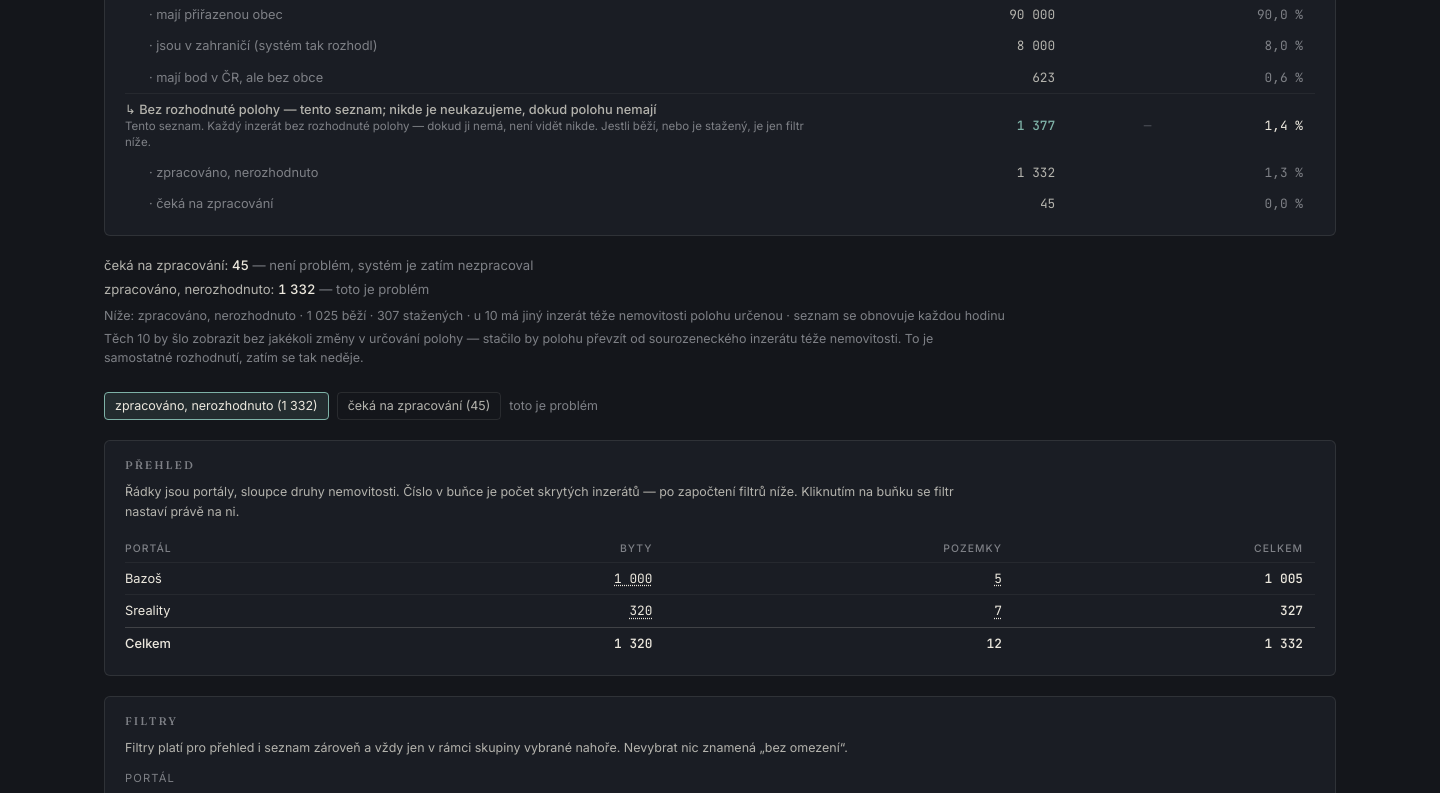
Test: LocationPinAudit › the state toggle re-scopes the matrix AND the server read
(page scrolled)
expect the row with test id "pin-audit-matrix-sreality" is shown: met, box [125,595,1315,627]
Click the button "čeká na zpracování (45)": click(419, 406) [337,392,501,420]
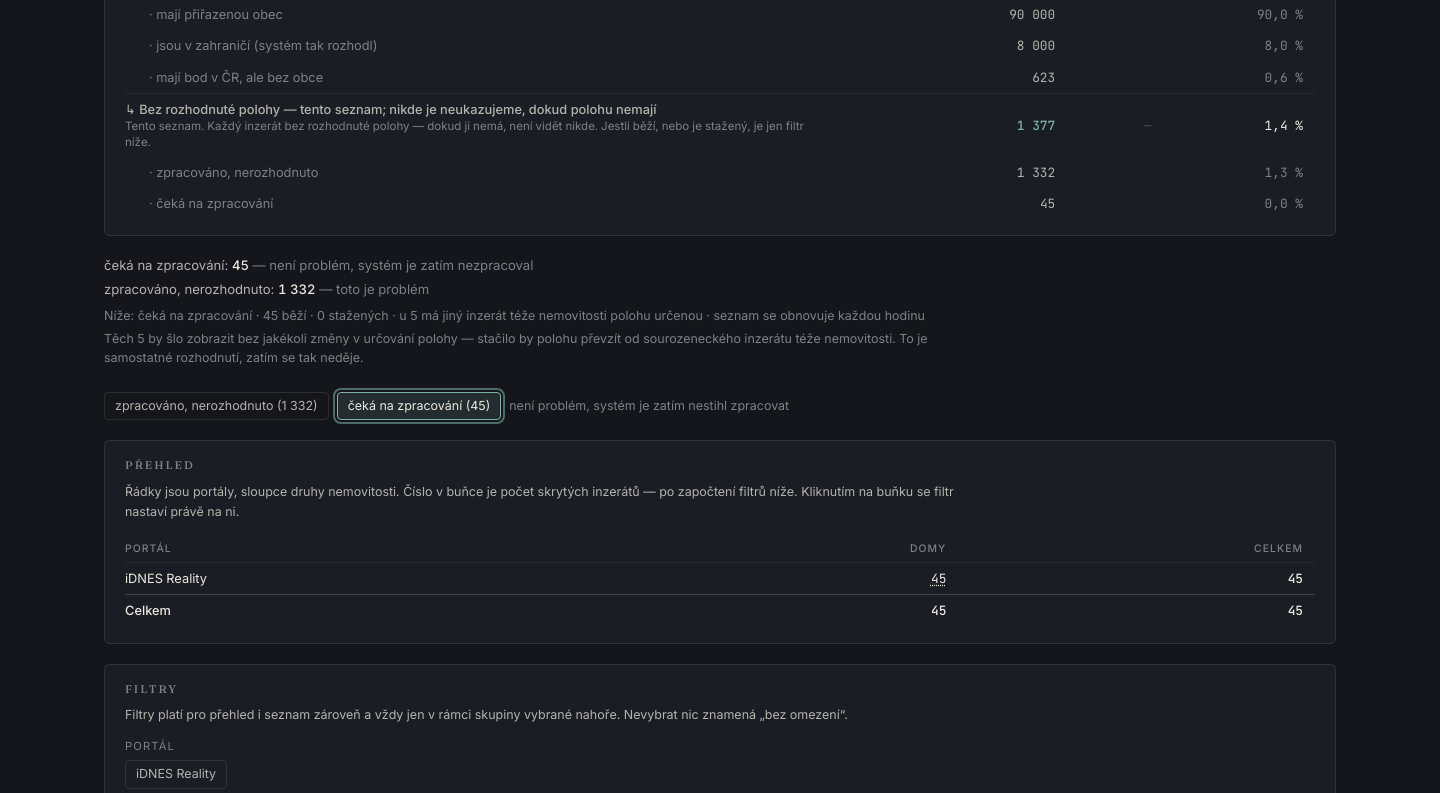
expect the 3rd cell "45" is shown: met, box [958,563,1315,595]
expect the row with test id "pin-audit-matrix-sreality" is gone: met
